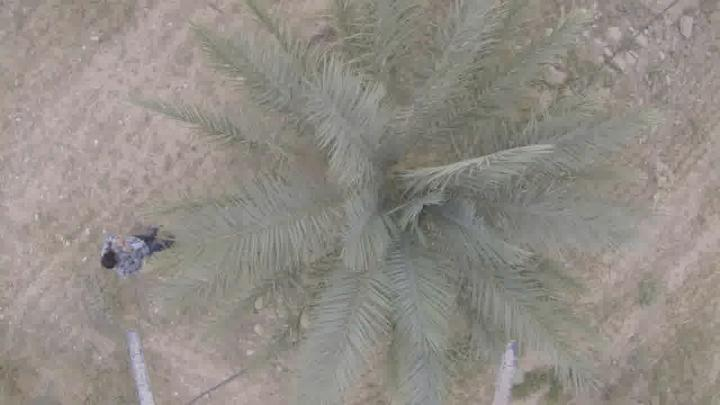Date-Palm-Crown: (244, 50, 554, 330)
